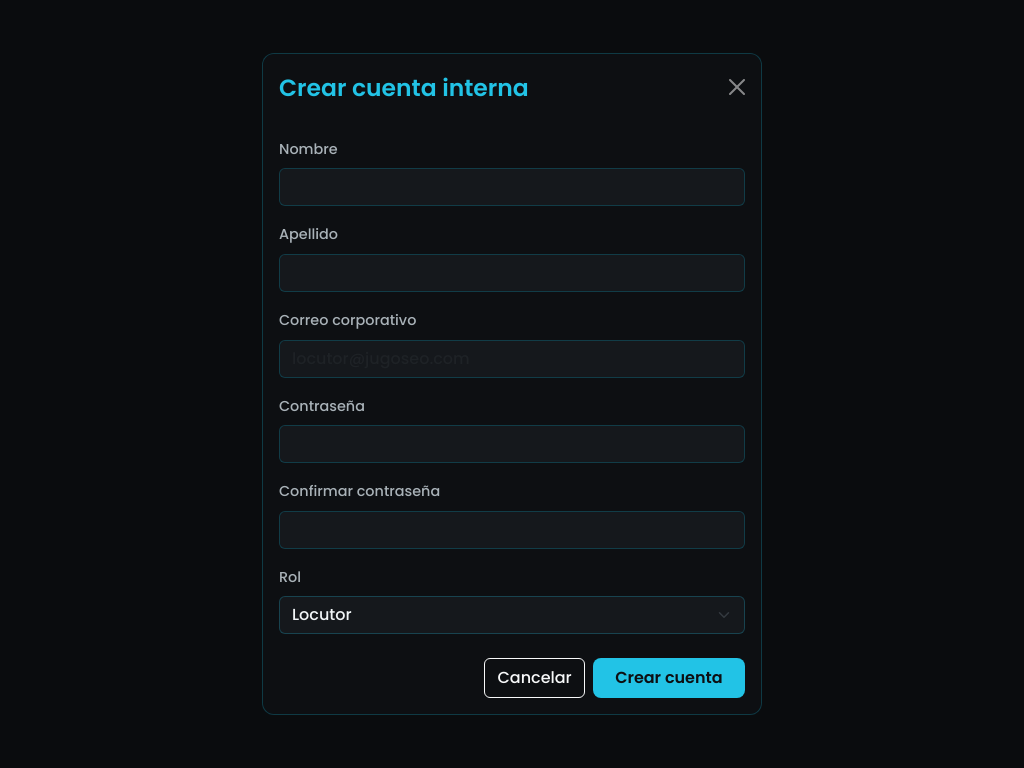
Test: UsuarioInternoModal › rechaza un correo público para una cuenta interna
Step 1. Type "Ana" into the field labelled "Nombre" → [512, 187], box [279,168,745,206]
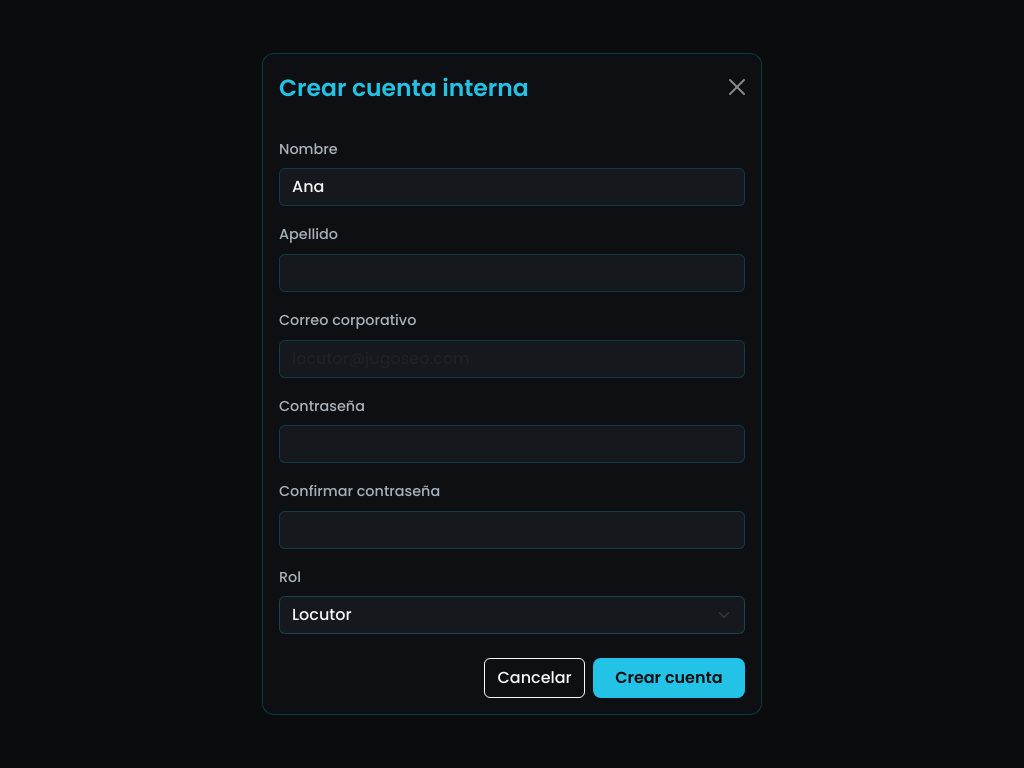
Step 2. Type "Pérez" into the field labelled "Apellido" → [512, 273], box [279,254,745,292]
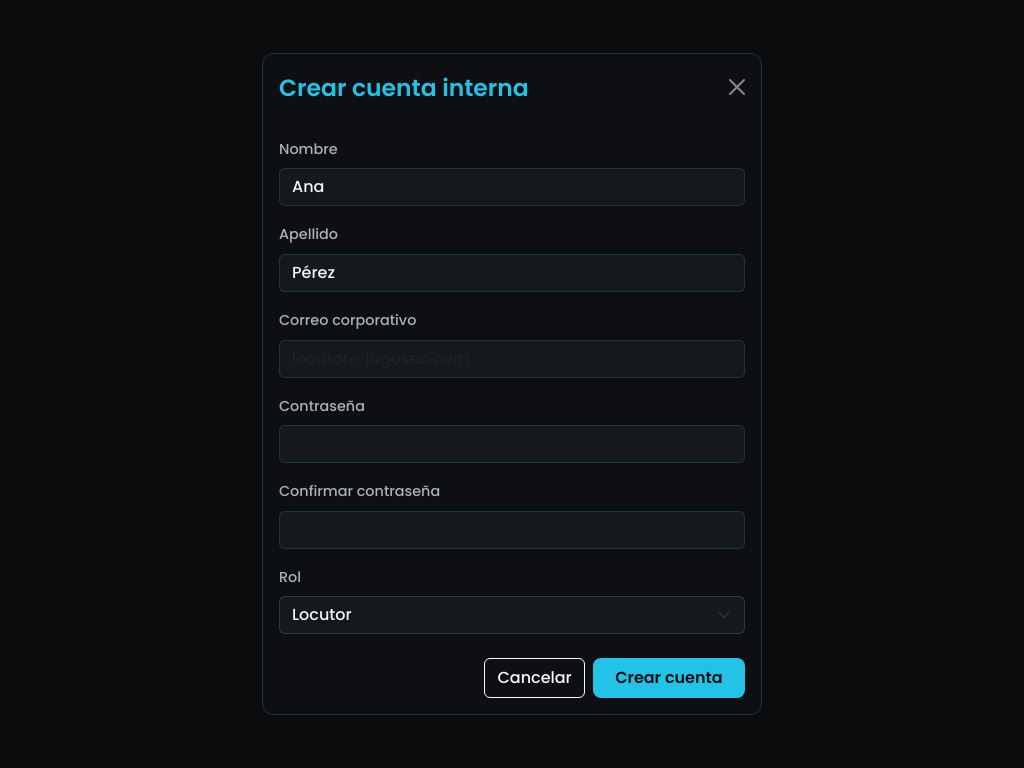
Step 3. Type "ana@gmail.com" into the field labelled "Correo corporativo" → [512, 359], box [279,340,745,378]
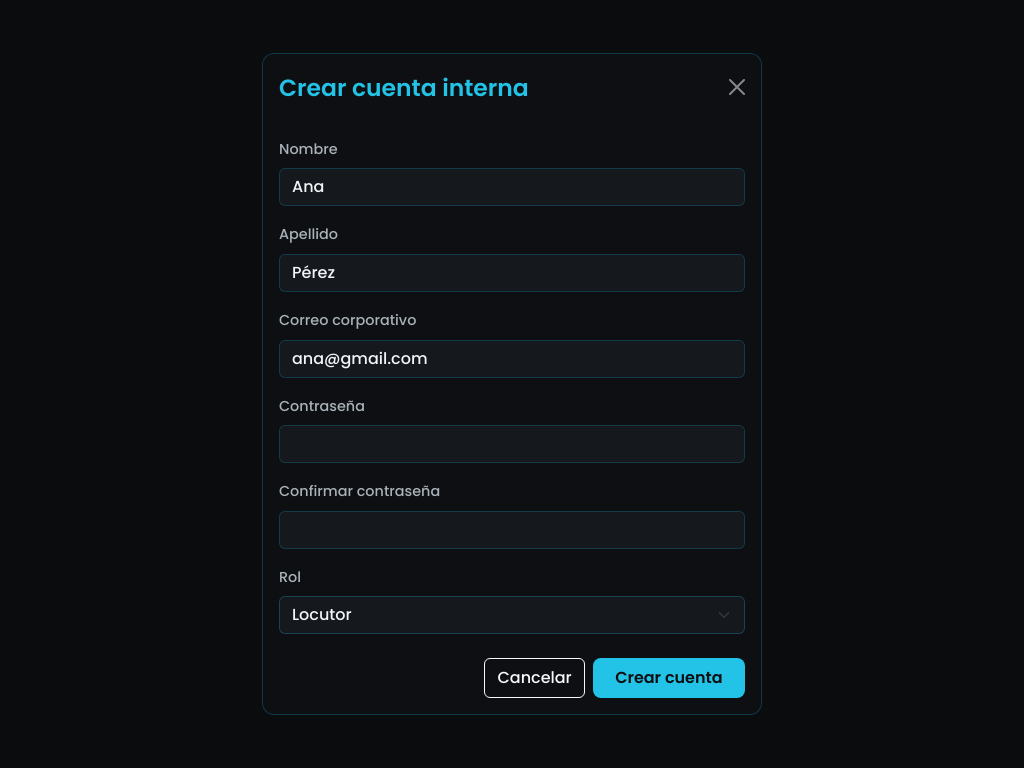
Step 4. Type "clave123" into the password field labelled "Contraseña" → [512, 444], box [279,425,745,463]
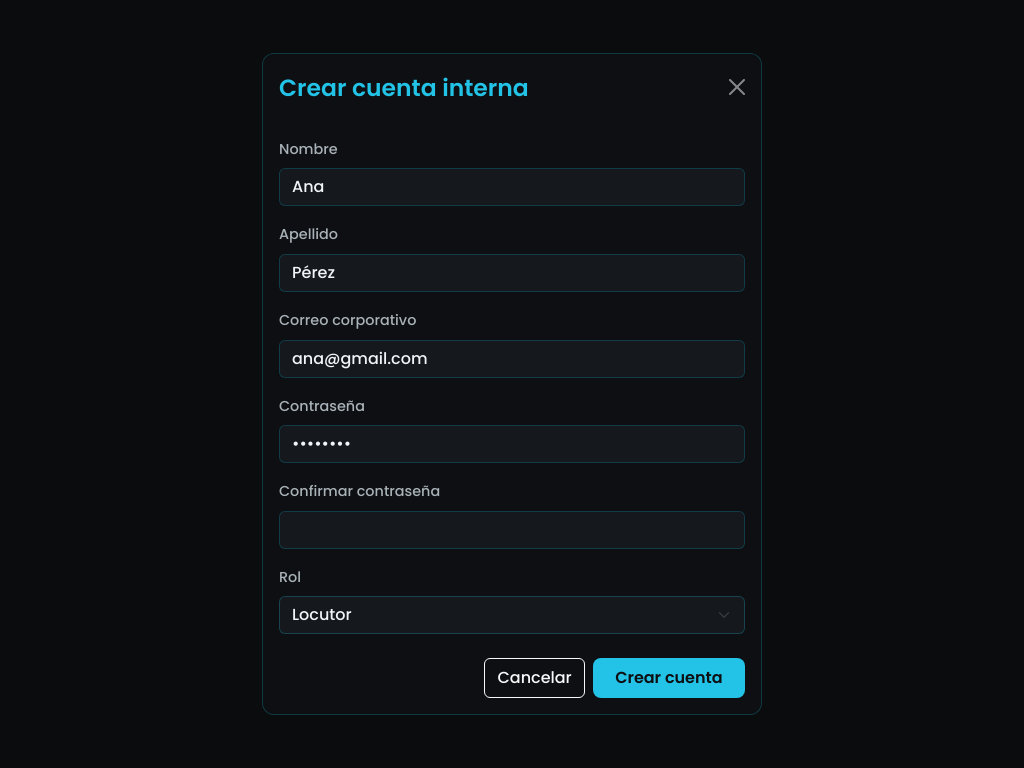
Step 5. Type "clave123" into the password field labelled "Confirmar contraseña" → [512, 530], box [279,511,745,549]
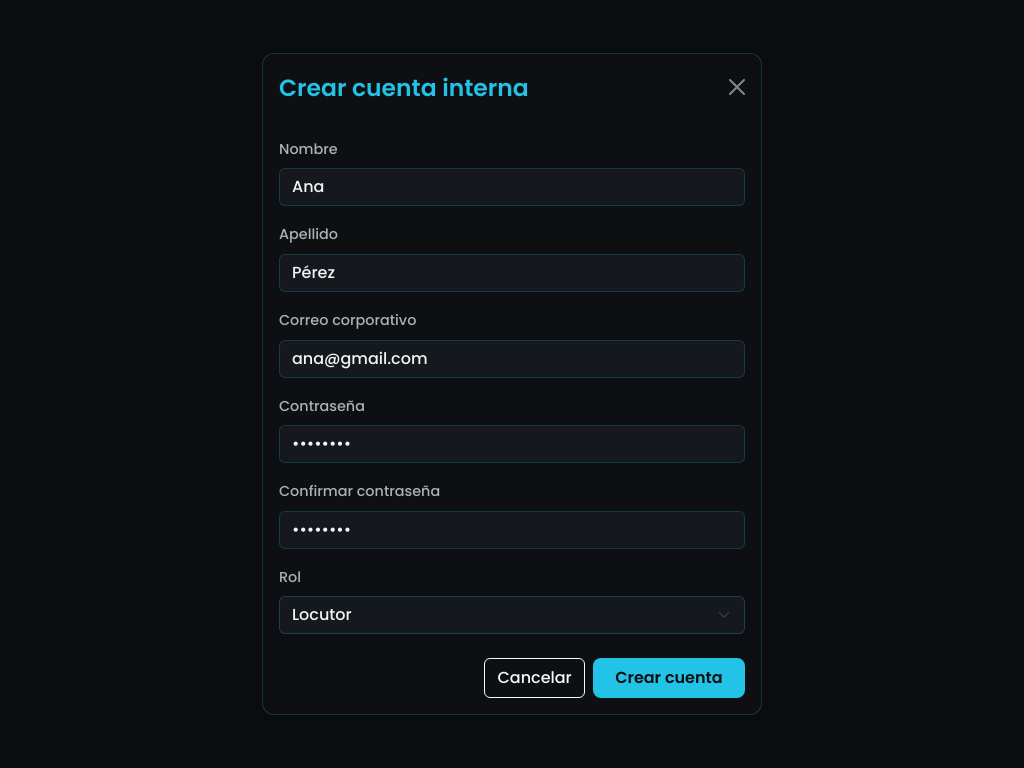
Step 6. Click the button "Crear cuenta" → [669, 678], box [593,658,745,698]
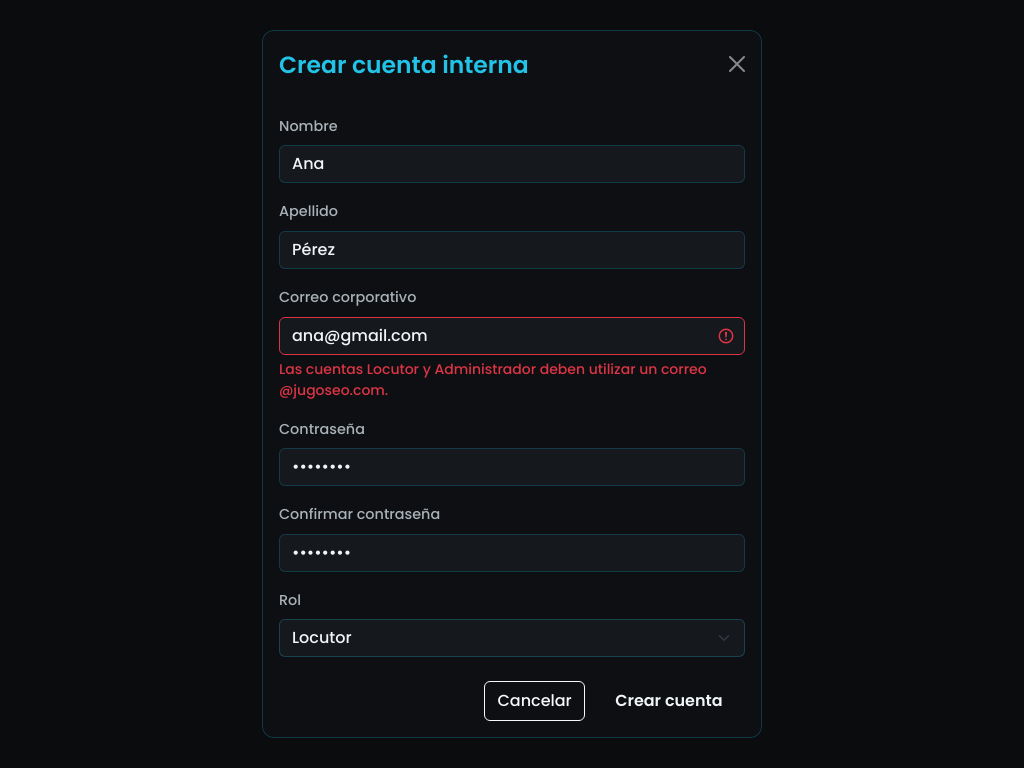
Expected: the text "Las cuentas Locutor y Administrador deben utilizar un correo @jugoseo.com." is shown, [279,359,745,401]
